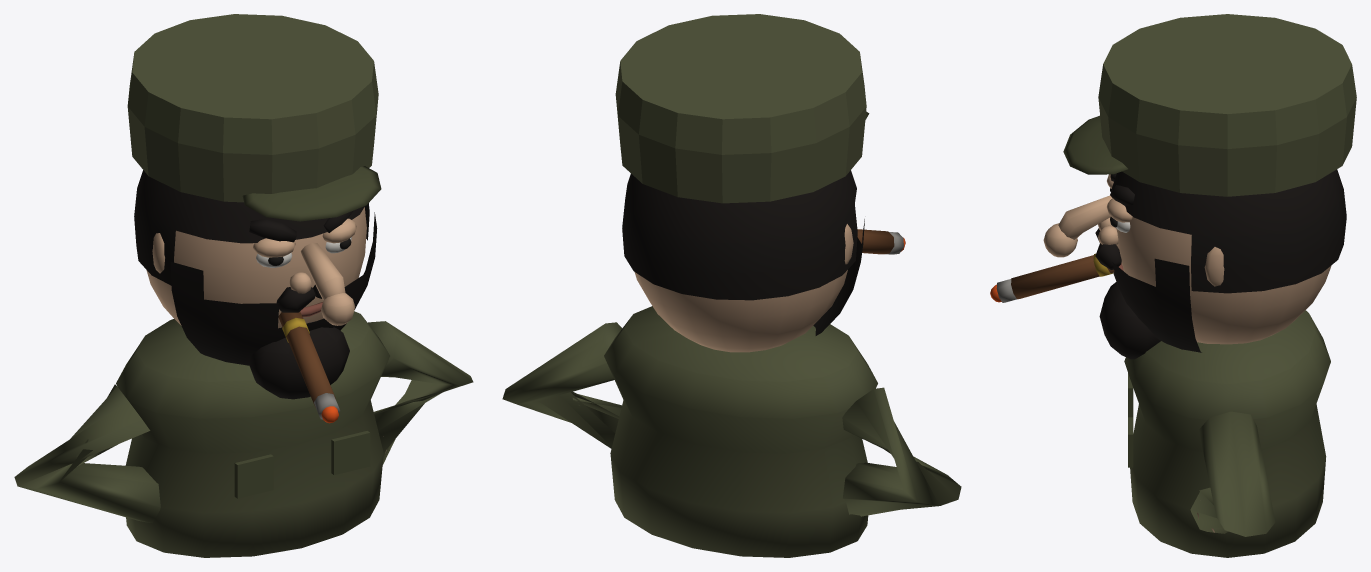
3 views of the same model, side by side, from view 1: azimuth 30°, elevation 25°; view 2: azimuth 150°, elevation 25°; view 3: azimuth 270°, elevation 25° (orthographic).
Parts seen in each view (by area): view 1: fig_head, fig_body; view 2: fig_head, fig_body; view 3: fig_head, fig_body.
Boxes of the visible parts, x1,y1,x2,y2 form: fig_head: (127, 14, 381, 423); fig_body: (14, 311, 473, 557); fig_head: (615, 14, 905, 352); fig_body: (502, 306, 961, 557); fig_head: (990, 14, 1356, 359); fig_body: (1124, 310, 1330, 557).
Bounding box in the file's own units: 1.13 × 1.06 × 0.8044.
